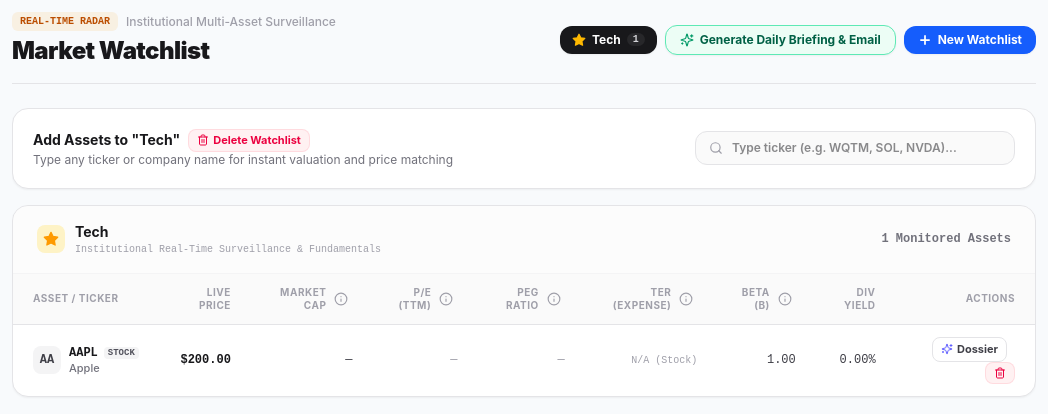
Test: WatchlistPage › excludes assets already on the watchlist from the "add asset" dropdown
Expected: the text "AAPL" is shown, x1=69 y1=345 x2=98 y2=361
Type "M" into the field with placeholder "Type ticker (e.g. WQTM, SOL, NVDA)..." at (855, 148), box x1=695 y1=131 x2=1015 y2=165
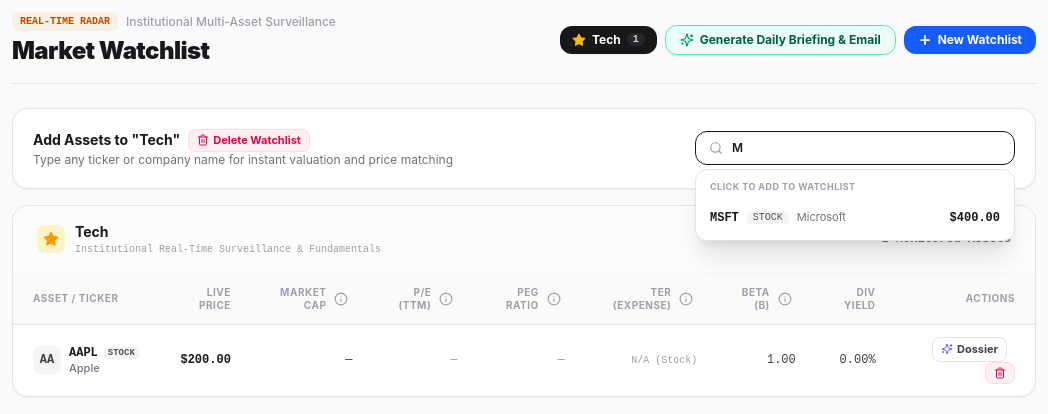
Now the text "MSFT" is shown, box x1=710 y1=210 x2=739 y2=226
Now the text "Click to Add to Watchlist" is shown, box x1=710 y1=181 x2=855 y2=192
